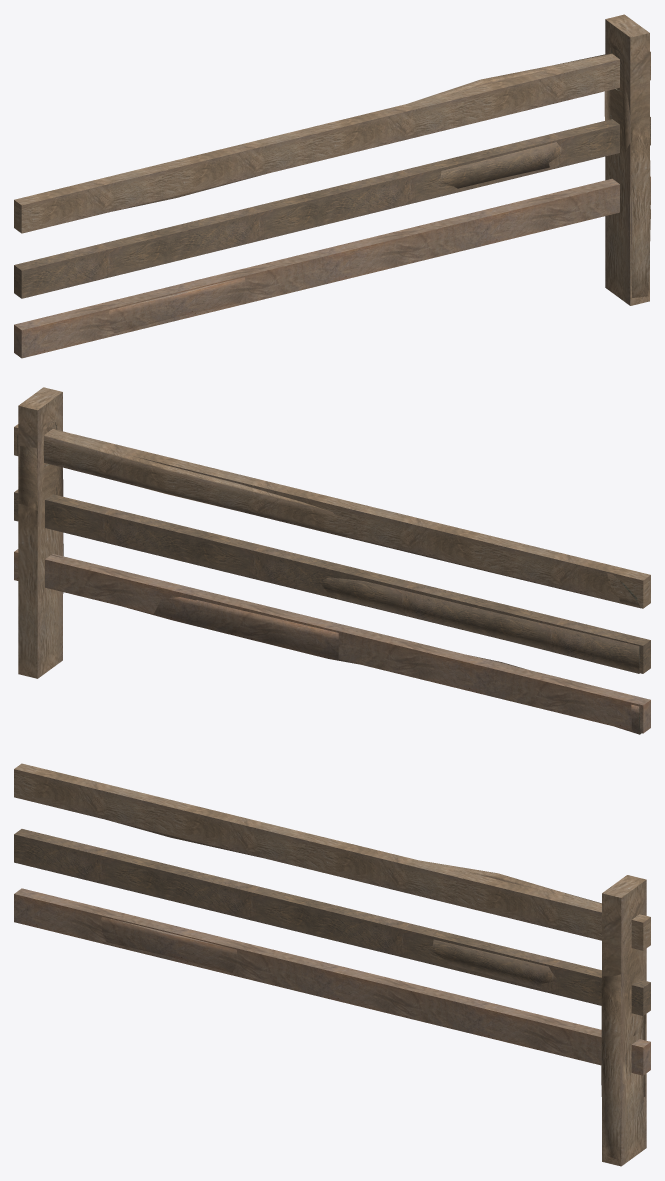
File: WoodFenceA.fbx
The picture shows the model from 3 angles, top to bottom: view 1: azimuth 30°, elevation 25°; view 2: azimuth 150°, elevation 25°; view 3: azimuth 330°, elevation 25°; orthographic projection.
Parts seen in each view (by area): view 1: WoodFenceA_LOD, WoodFenceA; view 2: WoodFenceA_LOD, WoodFenceA; view 3: WoodFenceA_LOD, WoodFenceA.
Part boxes in pixels (x1,y1,x2,y2): WoodFenceA_LOD: (14,14,650,358); WoodFenceA: (109,44,650,333); WoodFenceA_LOD: (14,387,650,733); WoodFenceA: (17,419,641,734); WoodFenceA_LOD: (14,763,650,1166); WoodFenceA: (101,821,645,1160).
Bounding box in the file's own units: 374 × 152 × 27.55.
